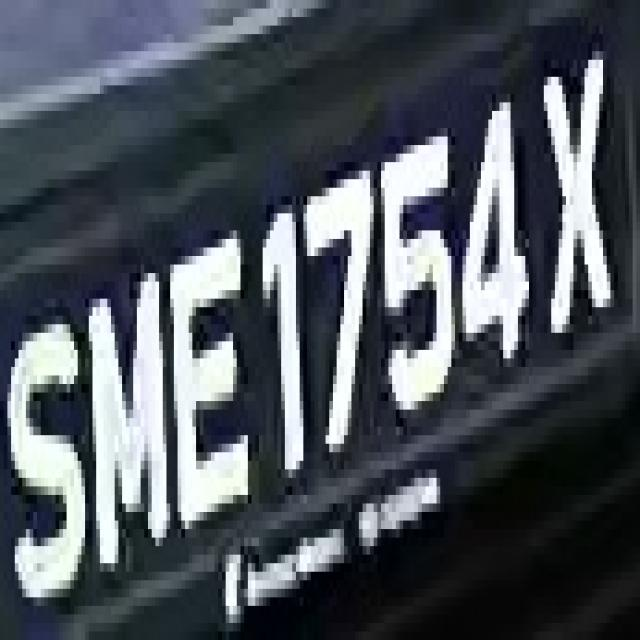1: (248, 154, 311, 486)
4: (444, 60, 529, 358)
5: (370, 111, 459, 427)
7: (300, 154, 381, 486)
E: (159, 222, 255, 555)
M: (81, 222, 178, 555)
S: (15, 290, 100, 597)
X: (532, 34, 622, 350)
